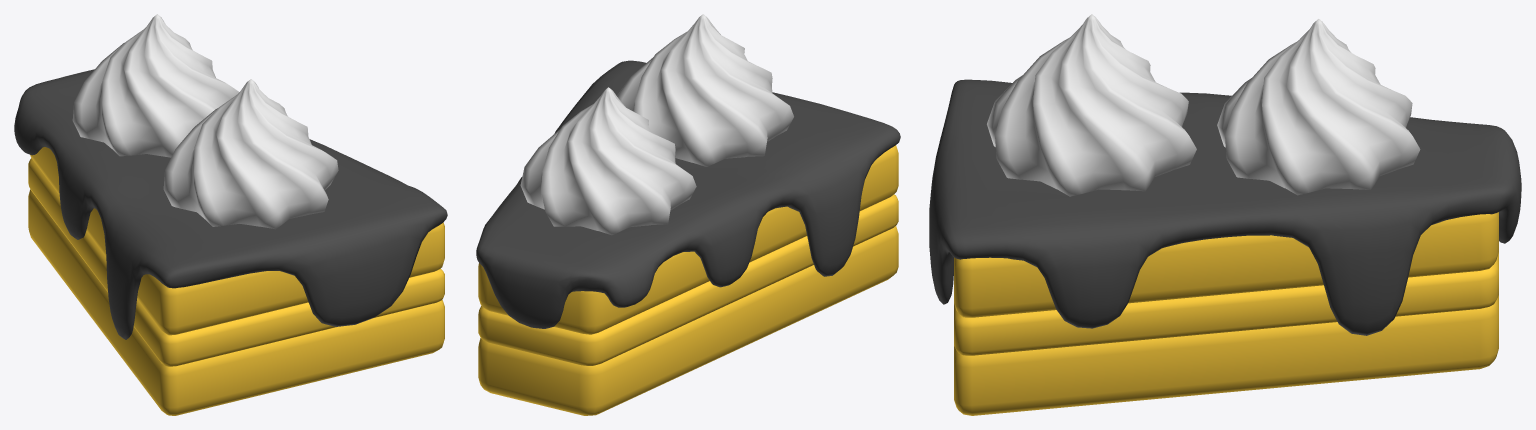
Rendered from Cake3.fbx.
The picture shows the model from 3 angles, left to right: view 1: azimuth 30°, elevation 25°; view 2: azimuth 150°, elevation 25°; view 3: azimuth 270°, elevation 25°; orthographic projection. The views are drawn at different scales.
Visible parts, largest first — view 1: Cake3; view 2: Cake3; view 3: Cake3.
Part boxes in pixels (left/top/right/bottom): Cake3: left=14, top=14, right=447, bottom=415; Cake3: left=476, top=14, right=900, bottom=415; Cake3: left=929, top=14, right=1521, bottom=415.
Bounding box in the file's own units: 1.06 × 1.59 × 0.9617.
